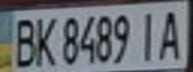4: (78, 11, 96, 64)
8: (57, 12, 81, 65), (93, 11, 115, 64)
9: (109, 9, 136, 63)
A: (154, 6, 187, 61)
B: (6, 13, 39, 69)
I: (133, 7, 163, 62)
K: (30, 12, 57, 68)
